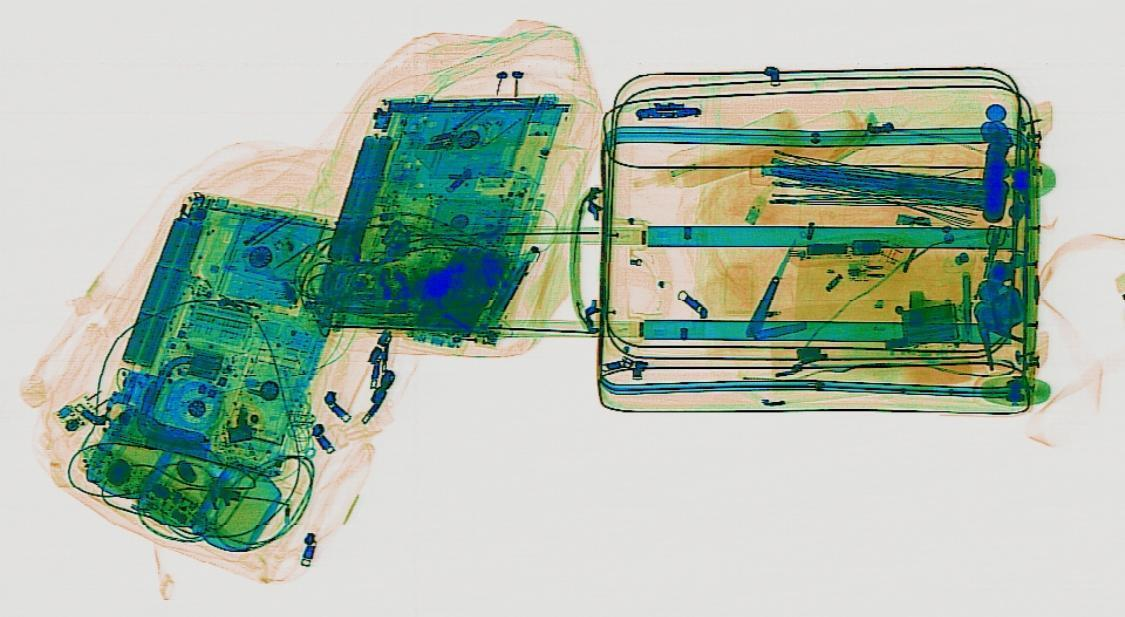Knife: (739, 238, 801, 335)
